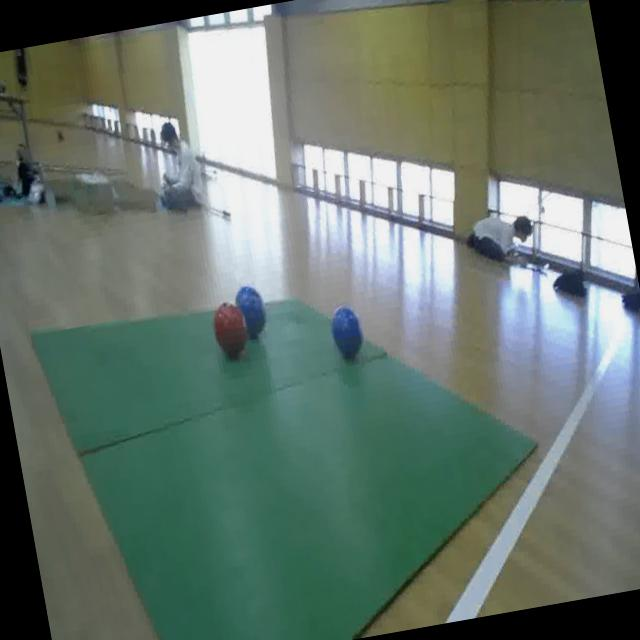blue_ball: (326, 300, 369, 366), (232, 274, 272, 342)
red_ball: (207, 294, 253, 362)
